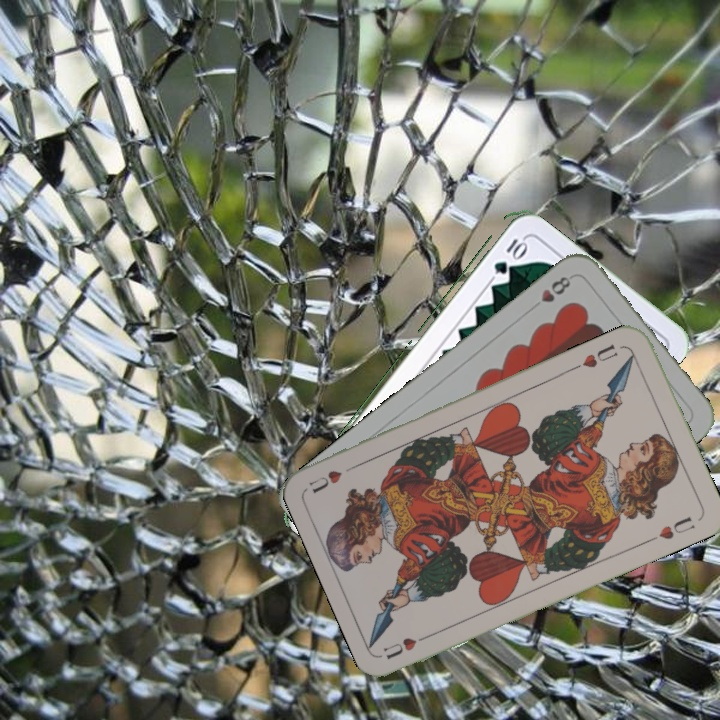G10: (489, 234, 528, 277)
H8: (536, 272, 573, 306)
HU: (379, 629, 436, 662), (578, 340, 620, 371)
